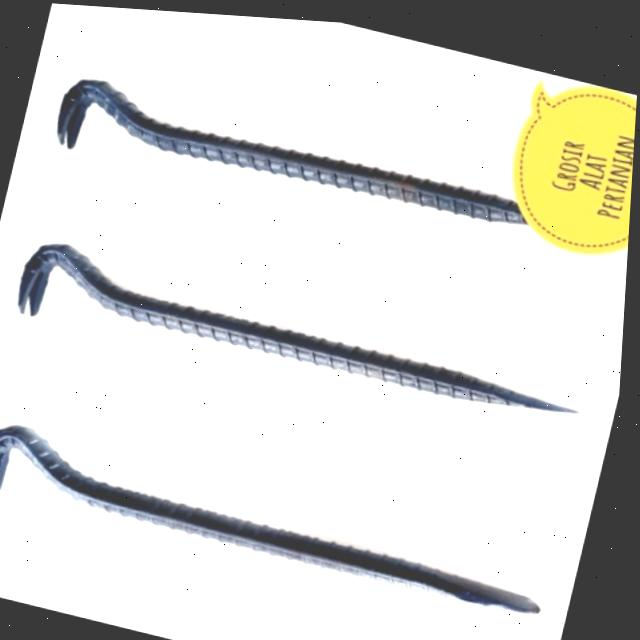crow bar: (0, 414, 546, 610), (15, 228, 558, 411), (53, 66, 530, 221)
